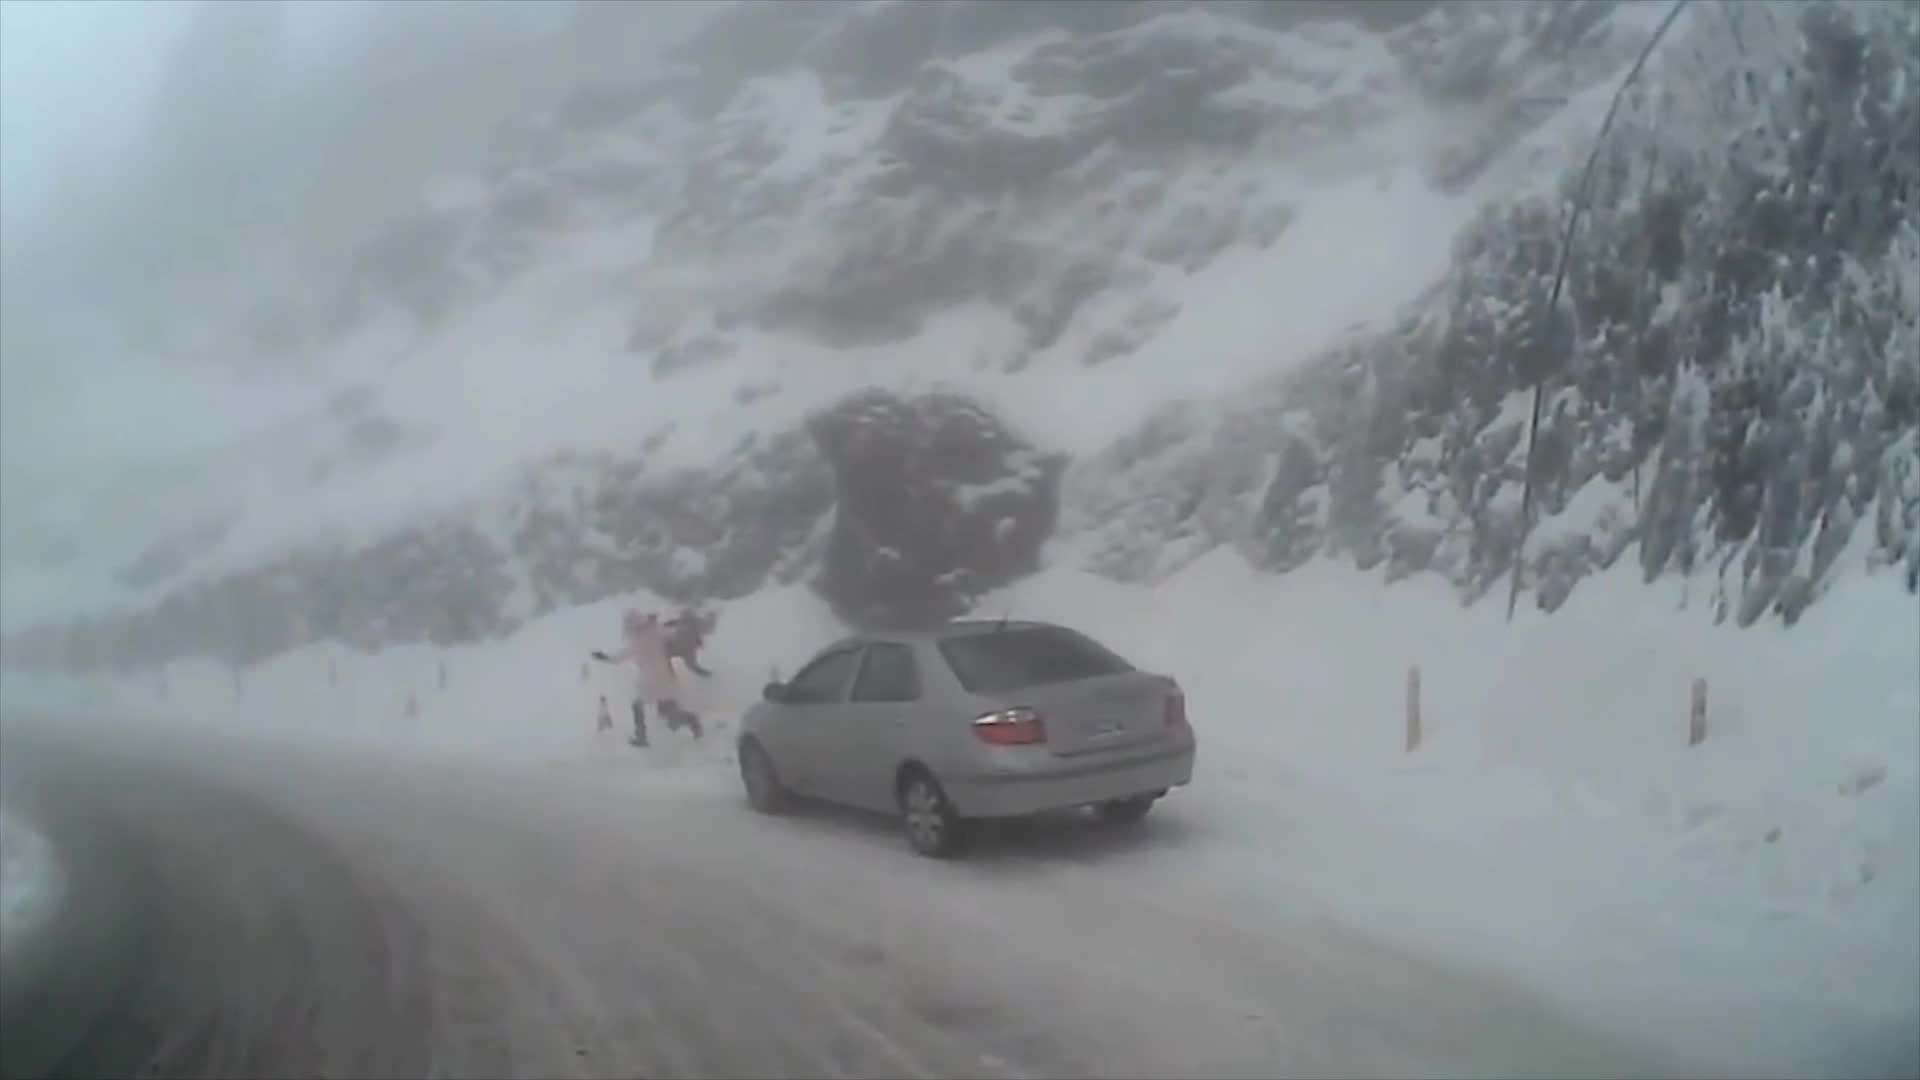pedestrian: (596, 603, 705, 752)
vehicle: (736, 617, 1196, 859)
